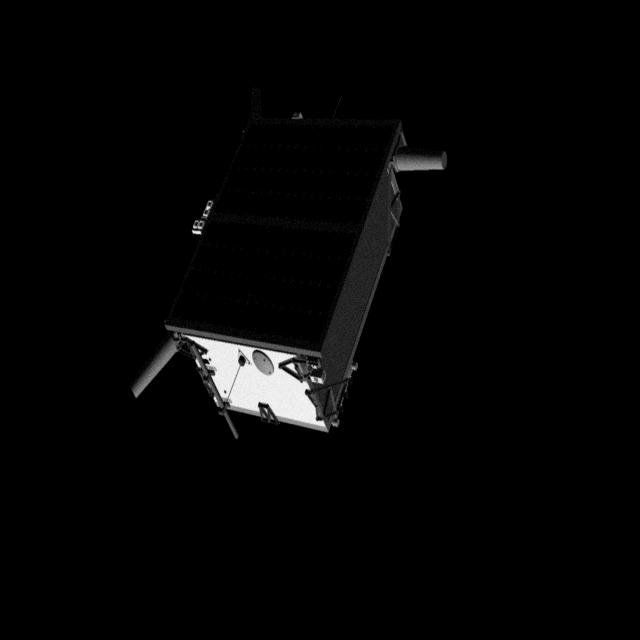satellite: (124, 80, 456, 448)
